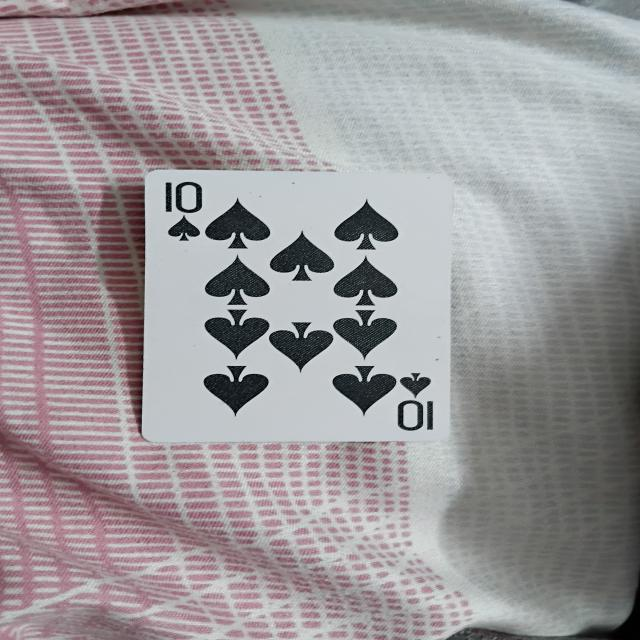10H: (146, 168, 454, 444)
